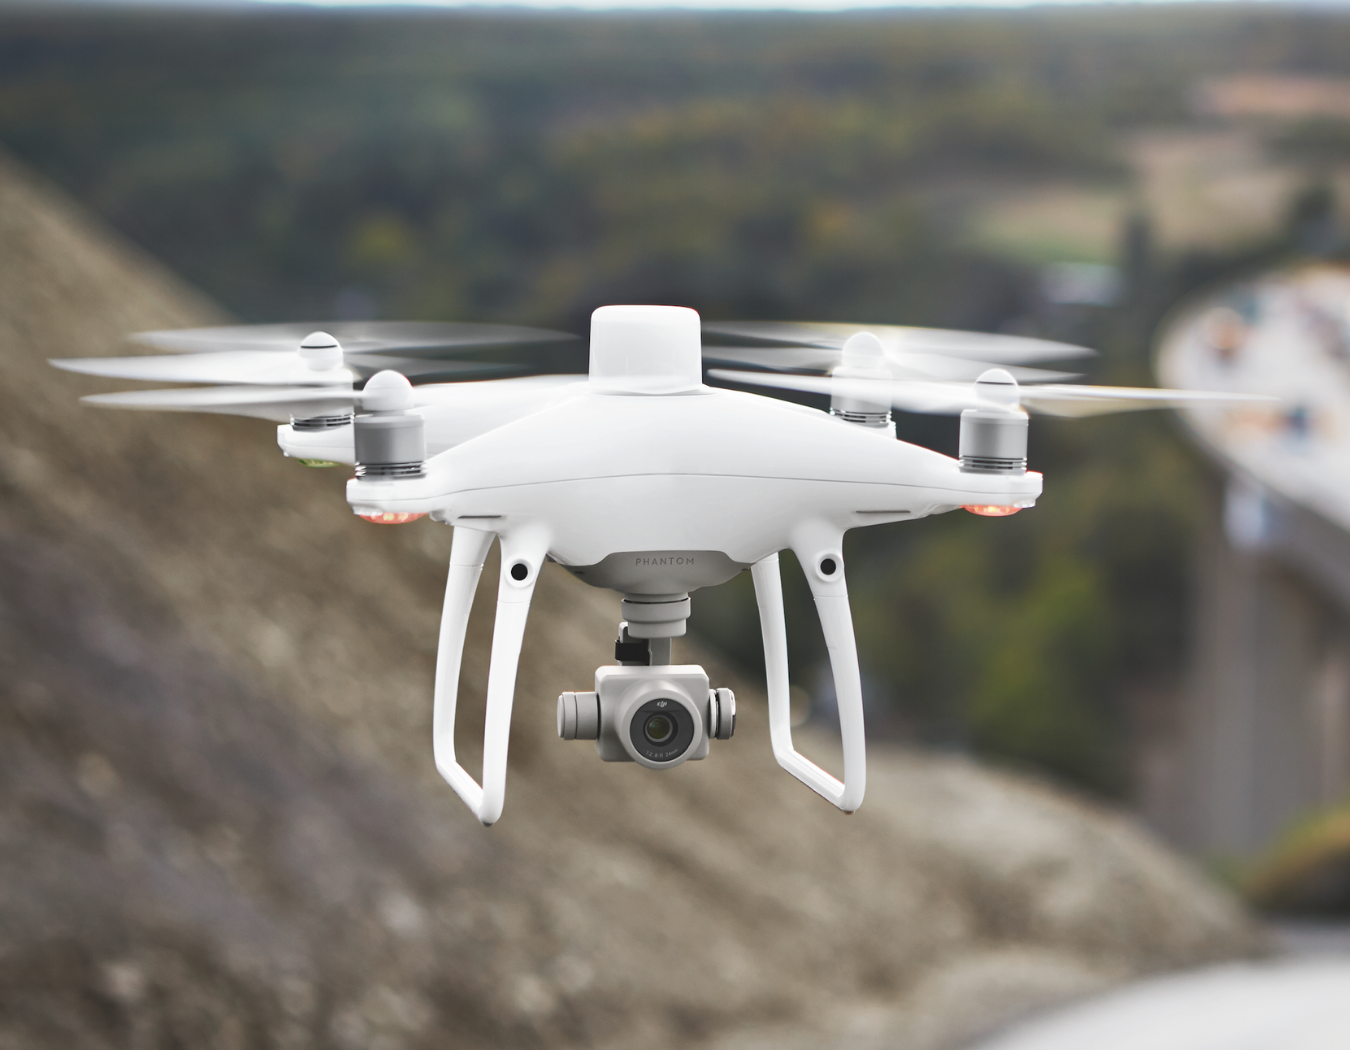drone: (42, 293, 1296, 828)
